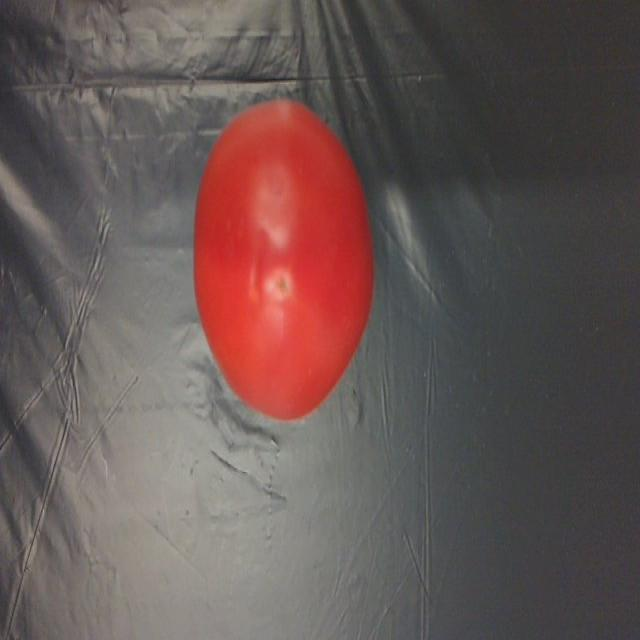kirmizi: (189, 93, 394, 442)
